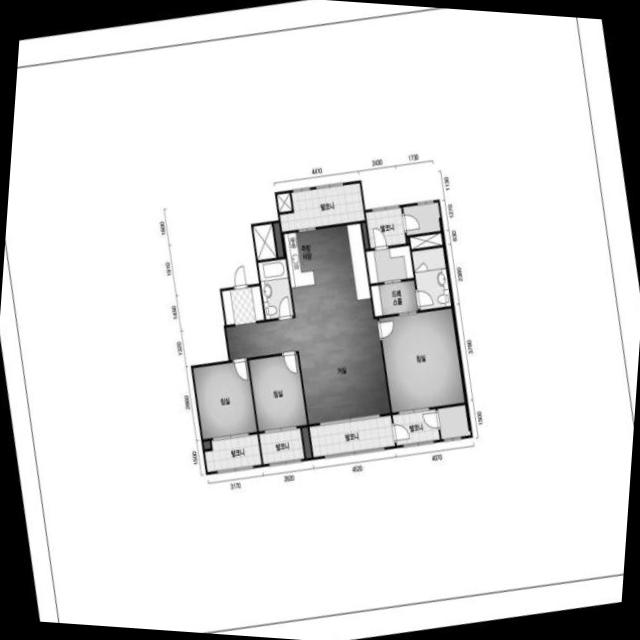background: (0, 0, 640, 640)
space_balconi: (279, 182, 364, 231), (309, 414, 394, 457), (204, 433, 261, 471), (392, 408, 439, 445), (365, 206, 406, 248), (258, 427, 304, 463)
space_bedroom: (378, 307, 464, 412), (192, 360, 256, 438), (248, 353, 306, 430)
space_dressroom: (365, 245, 413, 283), (370, 279, 418, 316)
space_front: (221, 285, 264, 325)
space_kitchen: (283, 222, 371, 316)
space_living_room: (225, 306, 390, 423)
space_other: (402, 201, 440, 234), (436, 404, 470, 438), (252, 223, 276, 259), (409, 232, 442, 248), (273, 222, 283, 256), (301, 426, 311, 457), (276, 192, 291, 212), (361, 221, 368, 248), (202, 440, 210, 448), (406, 237, 408, 242)
space_toilet: (411, 246, 450, 309), (257, 258, 293, 319)
